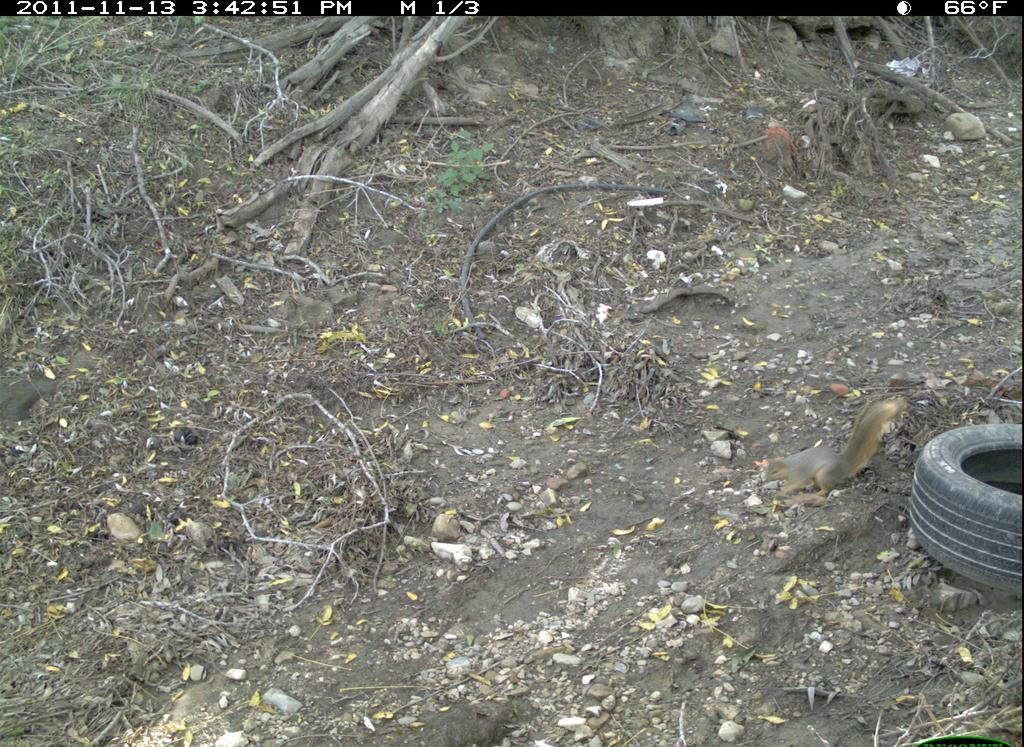squirrel: (757, 396, 904, 510)
